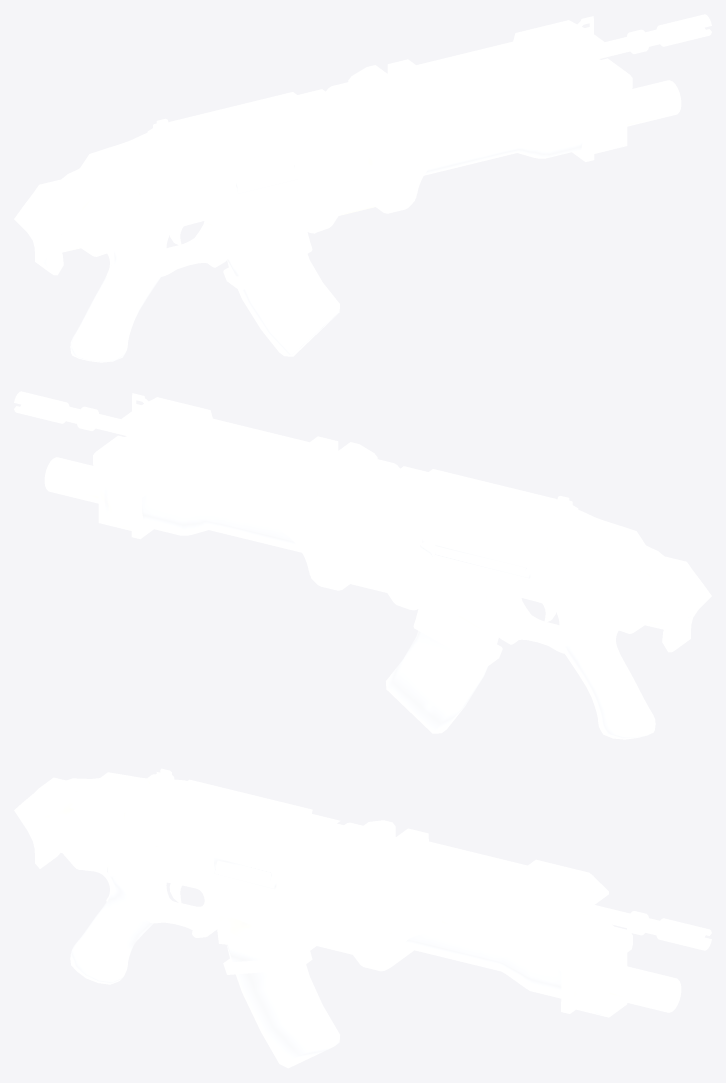
Rendered from Mid_Needle.glb.
3 renders of one model, top to bottom at view 1: azimuth 30°, elevation 25°; view 2: azimuth 150°, elevation 25°; view 3: azimuth 330°, elevation 25°, orthographic.
Parts seen in each view (by area): view 1: wrap; view 2: wrap; view 3: wrap.
Boxes of the visible parts, x1,y1,x2,y2 form: wrap: (14, 14, 711, 362); wrap: (14, 391, 711, 739); wrap: (14, 768, 711, 1068).
Size of the model in its own units: 2 by 0.7381 by 0.1548.
1 material, 1 textured.
